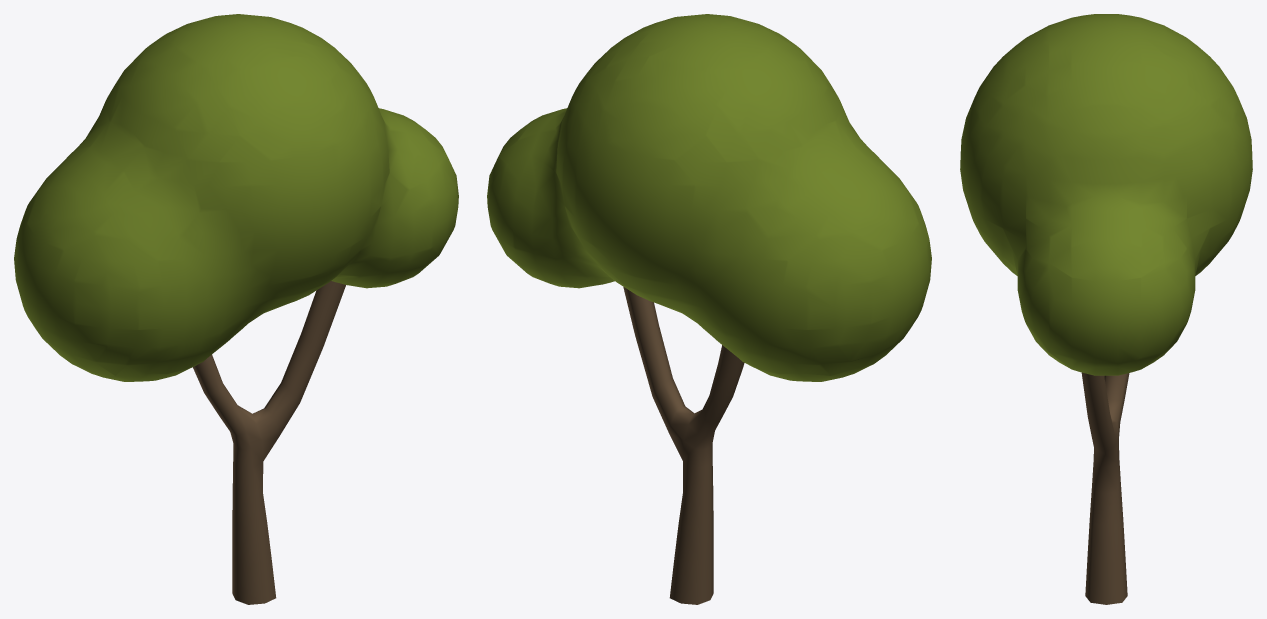
Rendered from q-tree-i4qmw4l64d.glb.
3 views of the same model, side by side, from view 1: azimuth 30°, elevation 25°; view 2: azimuth 150°, elevation 25°; view 3: azimuth 270°, elevation 25° (orthographic).
Visible parts, largest first — view 1: Tree_3; view 2: Tree_3; view 3: Tree_3.
Boxes of the visible parts, left/top/right/bottom form: Tree_3: left=14, top=14, right=458, bottom=604; Tree_3: left=487, top=14, right=931, bottom=604; Tree_3: left=960, top=14, right=1252, bottom=604.
Size of the model in its own units: 4.27 by 5.59 by 2.64.
